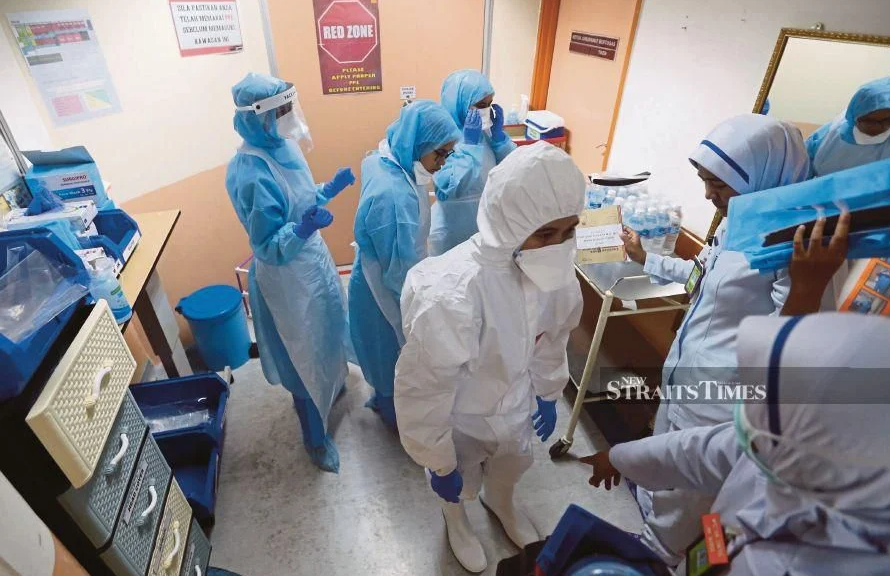Coverall: (397, 154, 593, 513), (227, 74, 350, 443), (344, 97, 458, 345)
Gloves: (284, 206, 338, 245), (525, 387, 561, 444), (423, 460, 465, 505), (315, 167, 358, 203)
with_mask: (511, 206, 582, 291)
